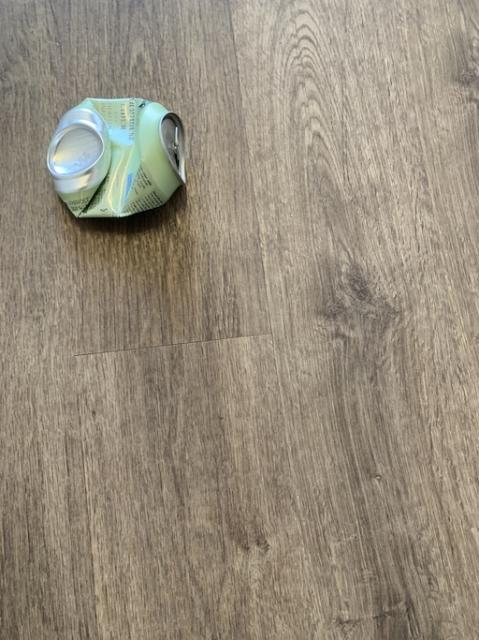metal: (46, 97, 184, 216)
